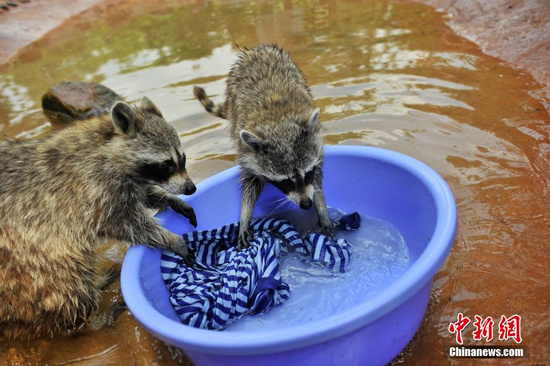raccoon: (1, 102, 206, 342), (189, 41, 370, 252)
